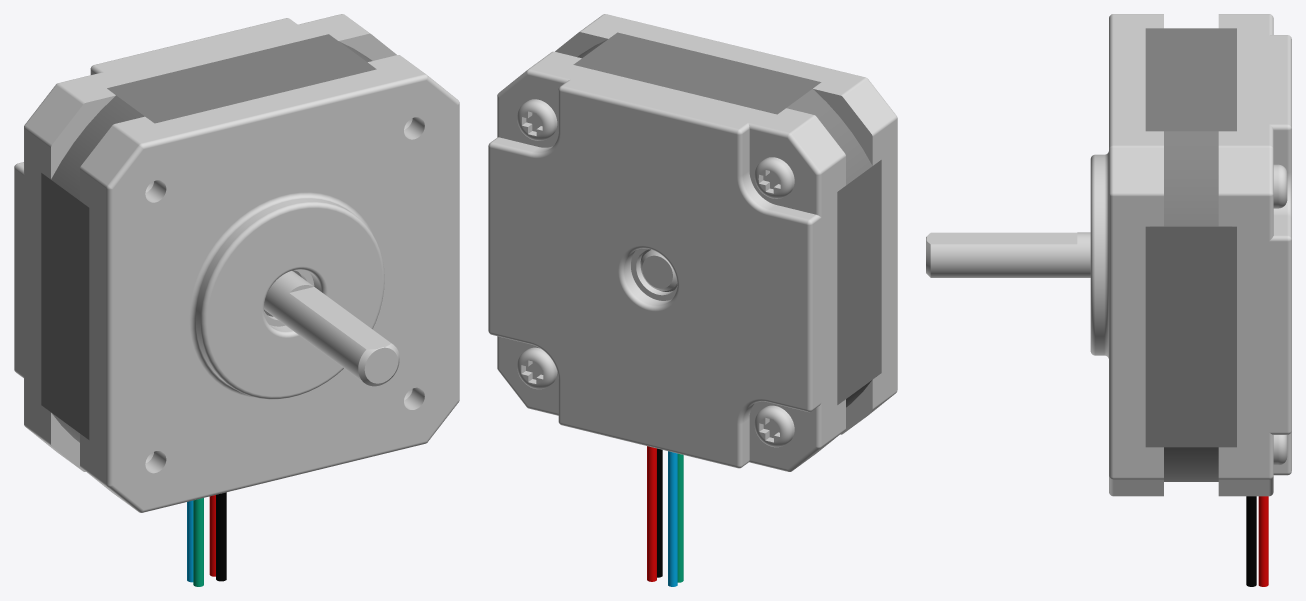
The model's file is moteur.gltf.
3 renders of one model, left to right at view 1: azimuth 30°, elevation 25°; view 2: azimuth 150°, elevation 25°; view 3: azimuth 270°, elevation 25°, orthographic. The views are drawn at different scales.
Parts seen in each view (by area): view 1: 17HS08-1004S; view 2: 17HS08-1004S; view 3: 17HS08-1004S.
Boxes of the visible parts, <box> form: 17HS08-1004S: <box>14,14,459,586</box>; 17HS08-1004S: <box>488,14,897,586</box>; 17HS08-1004S: <box>926,14,1291,586</box>.
Size of the model in its own units: 0.0423 by 0.0603 by 0.04.
